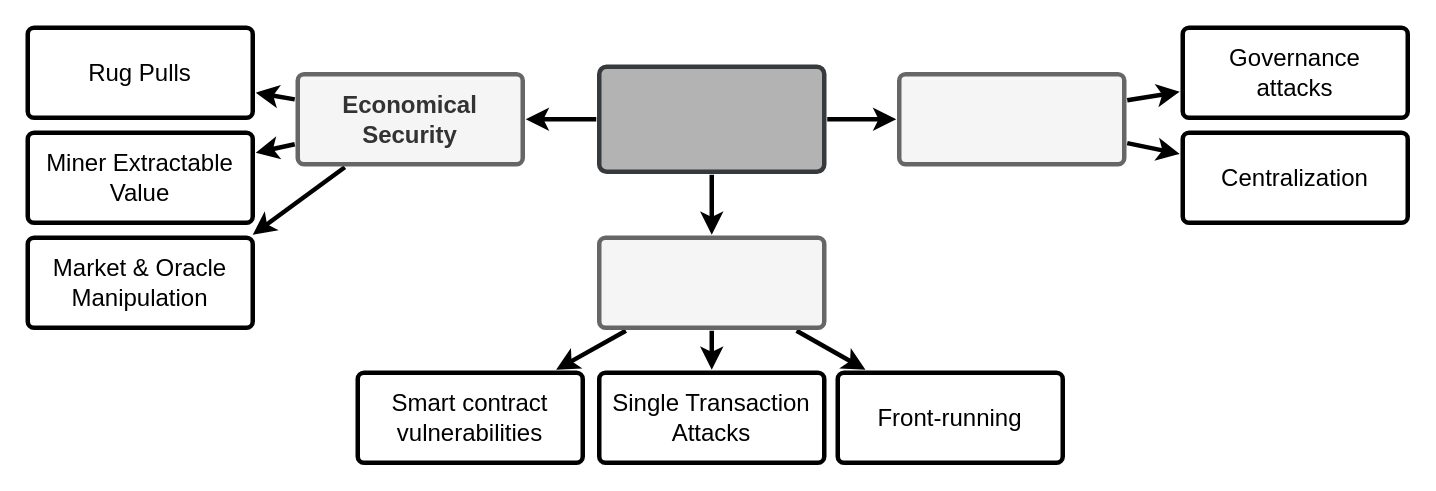
The diagram is 1436 pixels wide and 491 high, and some of its shapes have lost their labels. Here are the shapes that lost their labels. From the top down, the centre of each, then its label:
the point at 711,118: DeFi Security
the point at 1011,118: Operational Security
the point at 711,282: Technical Security
